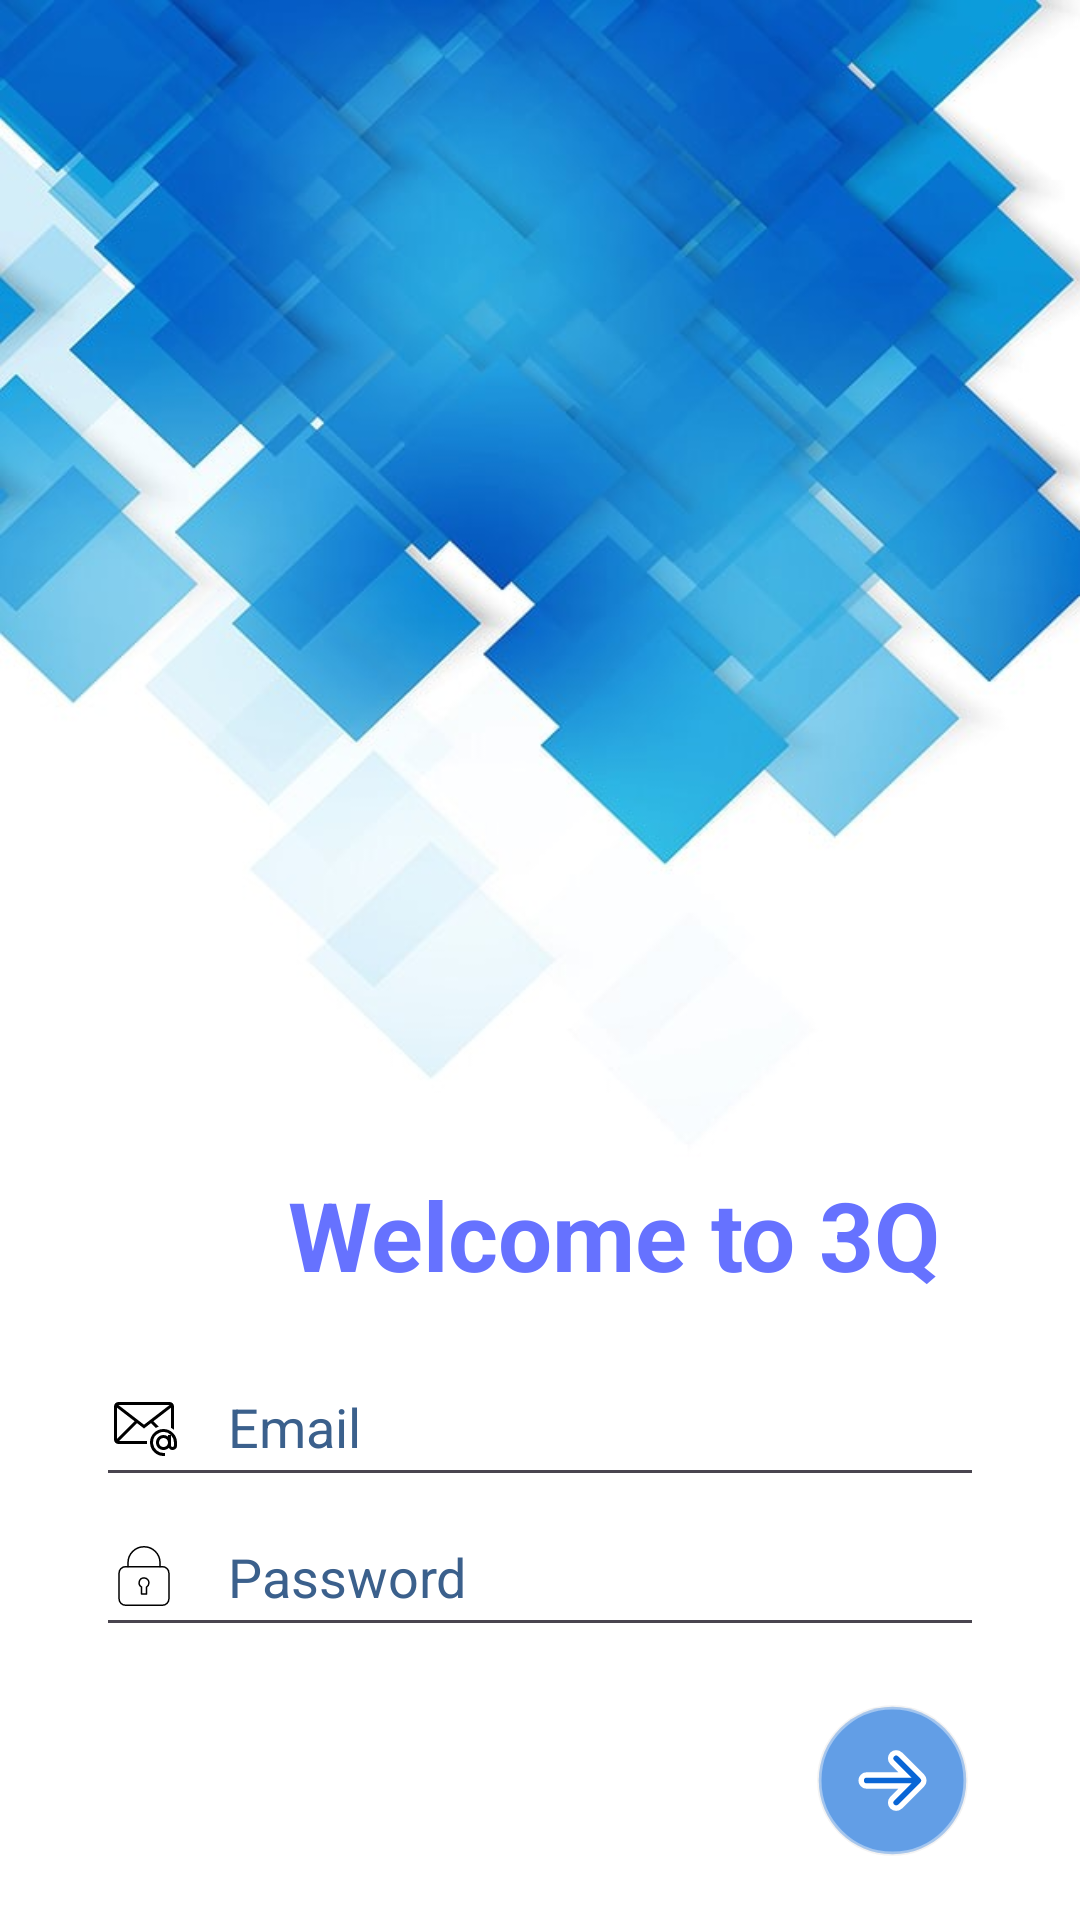

Icon bounding boxes for this 1080*1920 phone screenshot, format {"x1": x1, "y1": y1, "x2": x2, "y2": y2}:
login: {"x1": 818, "y1": 1706, "x2": 967, "y2": 1855}
